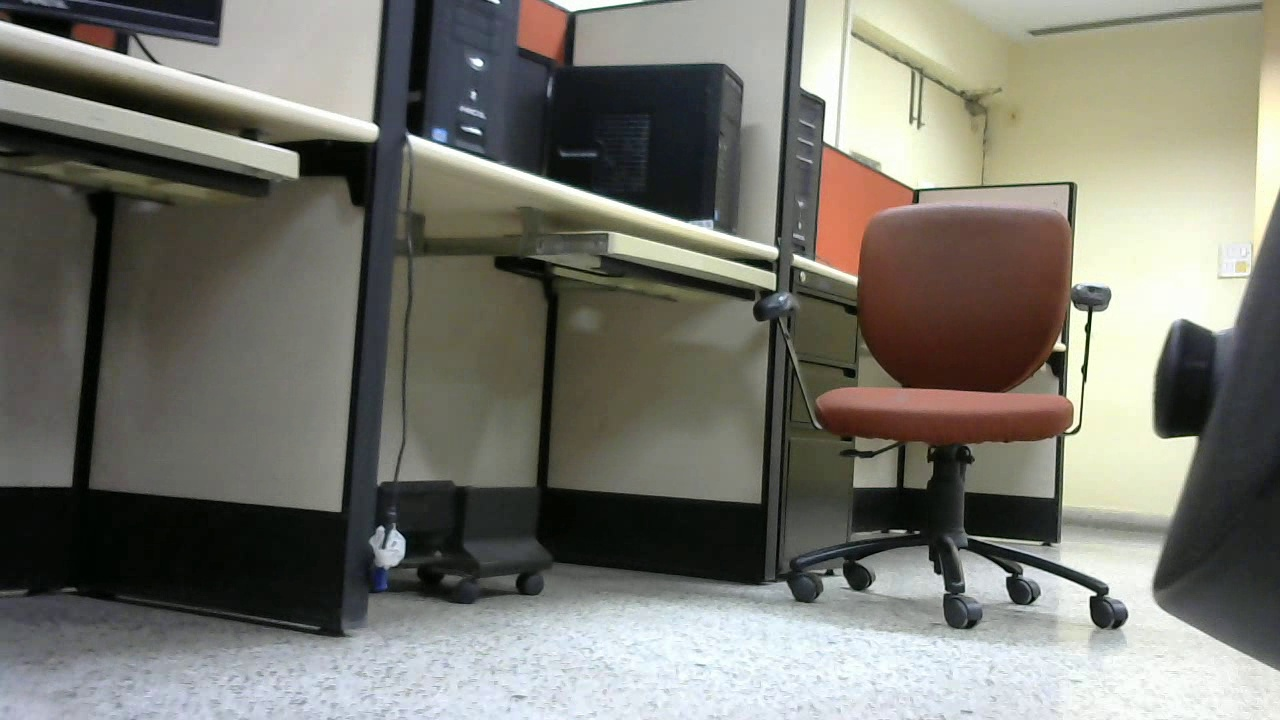chair: (732, 191, 1136, 648)
